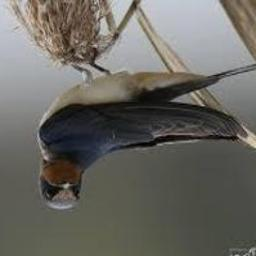Swallow: (36, 62, 256, 210)
